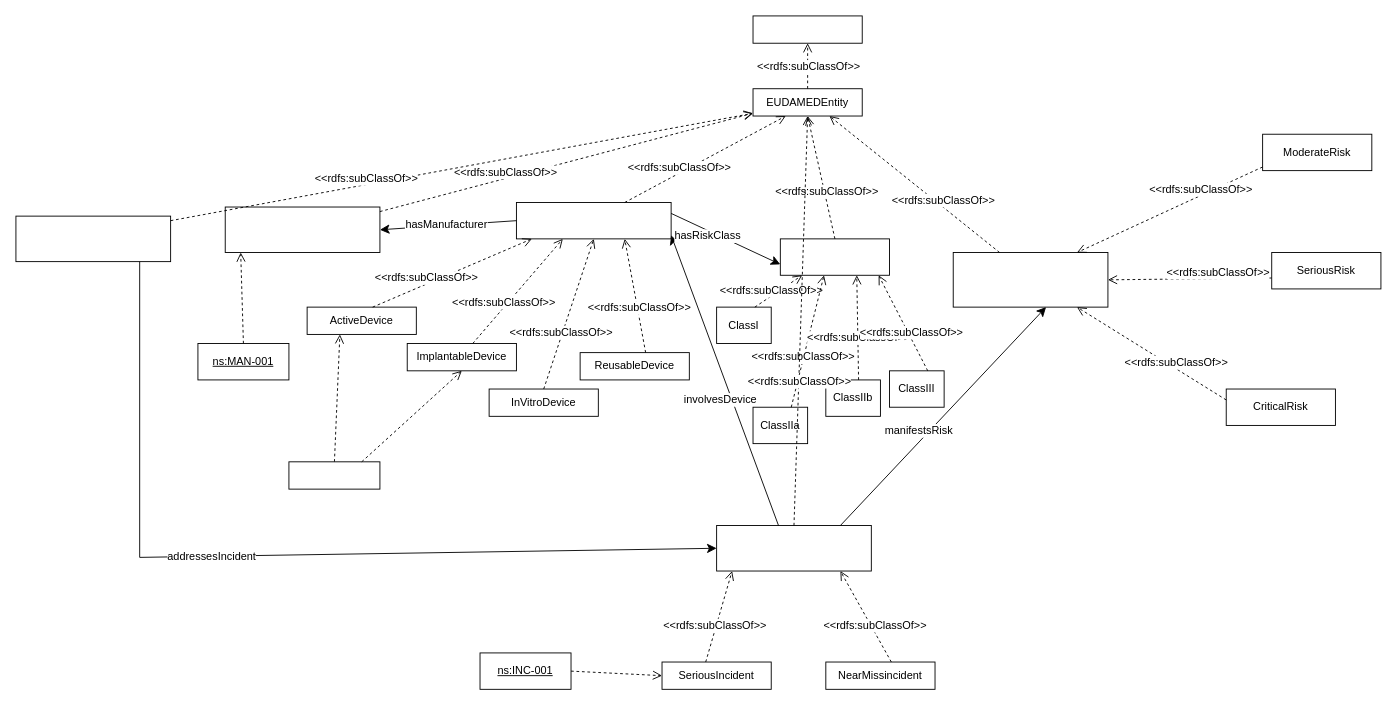
This 1397x705 diagram has some shape labels left out. The shapes that lost their labels are listed below. From the top down, each one's box as (x1, y1, x2, y2) in pixels, then its label:
(752, 15, 862, 43): owl:Thing
(15, 215, 171, 262): CorrectiveAction fscaID: xsd:string
(224, 206, 380, 253): Manufacturer manufacturerID: xsd:string
(516, 202, 671, 239): MedicalDevice deviceID: xsd:string
(779, 238, 890, 275): RiskClass
(952, 252, 1108, 307): Risk riskID: xsd:string riskCategory: xsd:string
(288, 461, 380, 489): ns:DEV-001
(716, 525, 871, 571): Incident incidentID: xsd:string outcome: xsd:string
